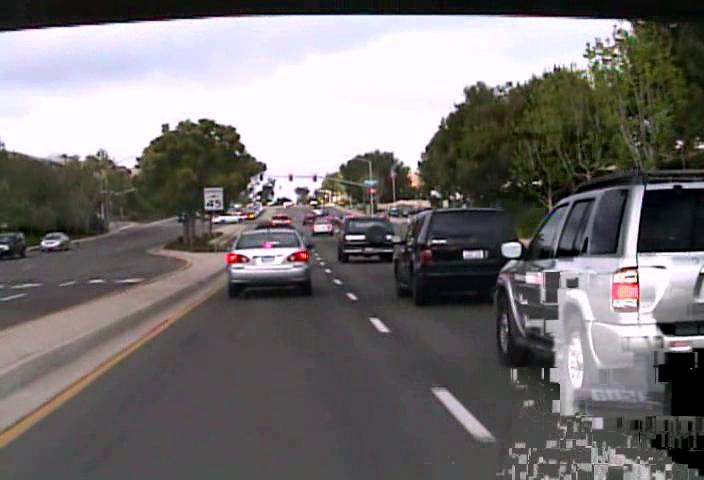speedLimit45: (203, 186, 223, 210)
